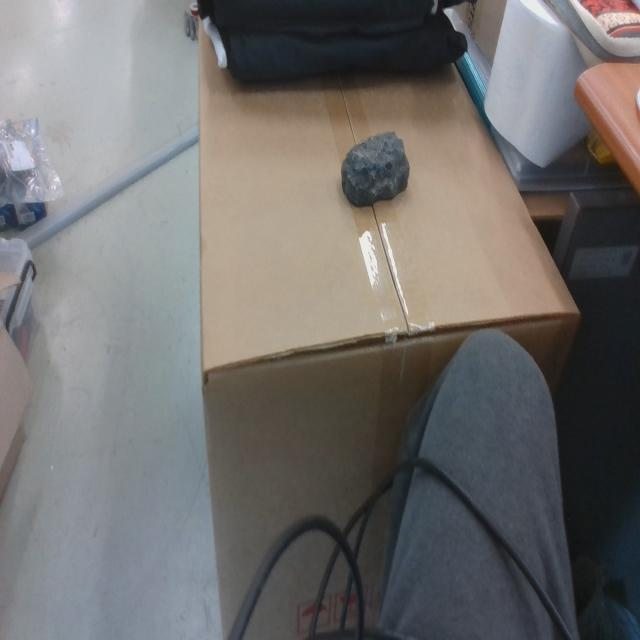stone: (340, 130, 410, 209)
